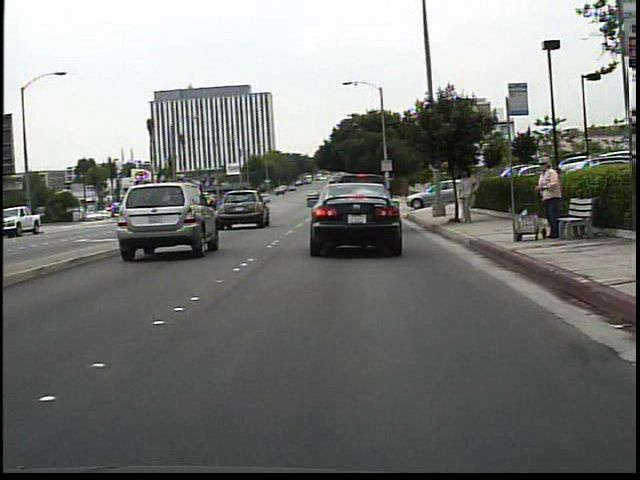person: (531, 152, 563, 239), (454, 164, 481, 225)
